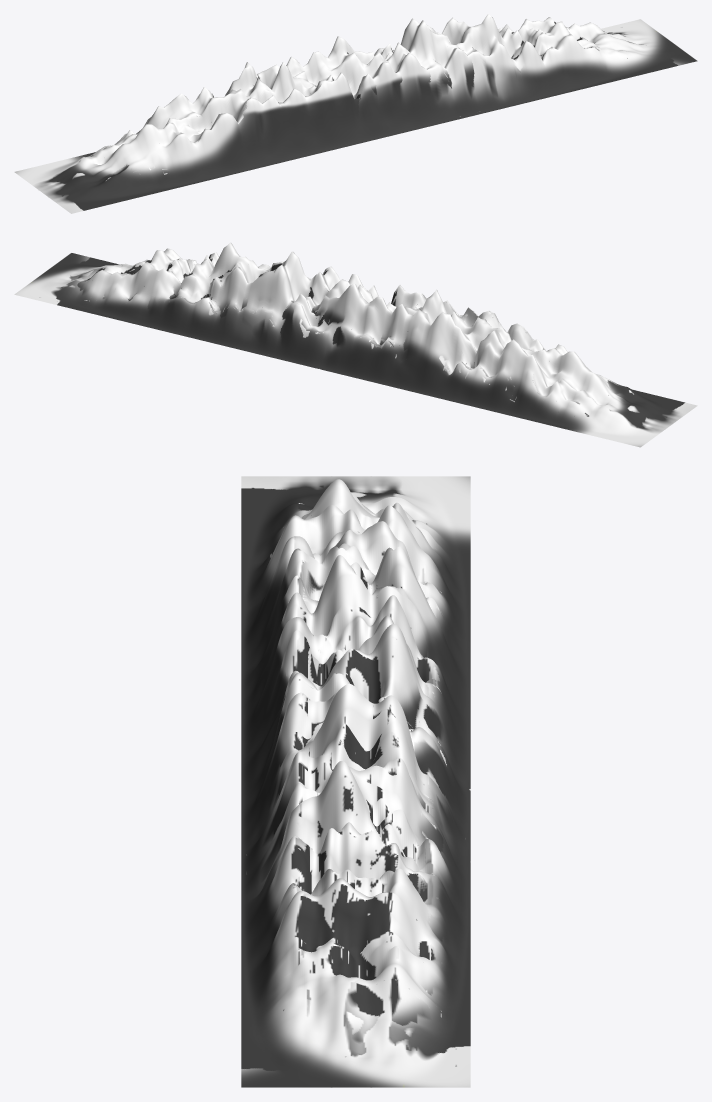
File: mountain_2.glb
The picture shows the model from 3 angles, top to bottom: view 1: azimuth 30°, elevation 25°; view 2: azimuth 150°, elevation 25°; view 3: azimuth 270°, elevation 25°; orthographic projection. The views are drawn at different scales.
Visible parts, largest first — view 1: Landscape.001; view 2: Landscape.001; view 3: Landscape.001.
Boxes of the visible parts, x1,y1,x2,y2 form: Landscape.001: [14, 14, 697, 213]; Landscape.001: [14, 242, 697, 447]; Landscape.001: [241, 476, 470, 1087].
Size of the model in its own units: 27.2 by 3.37 by 4.31.
Materials: 1 (1 with a texture image).
